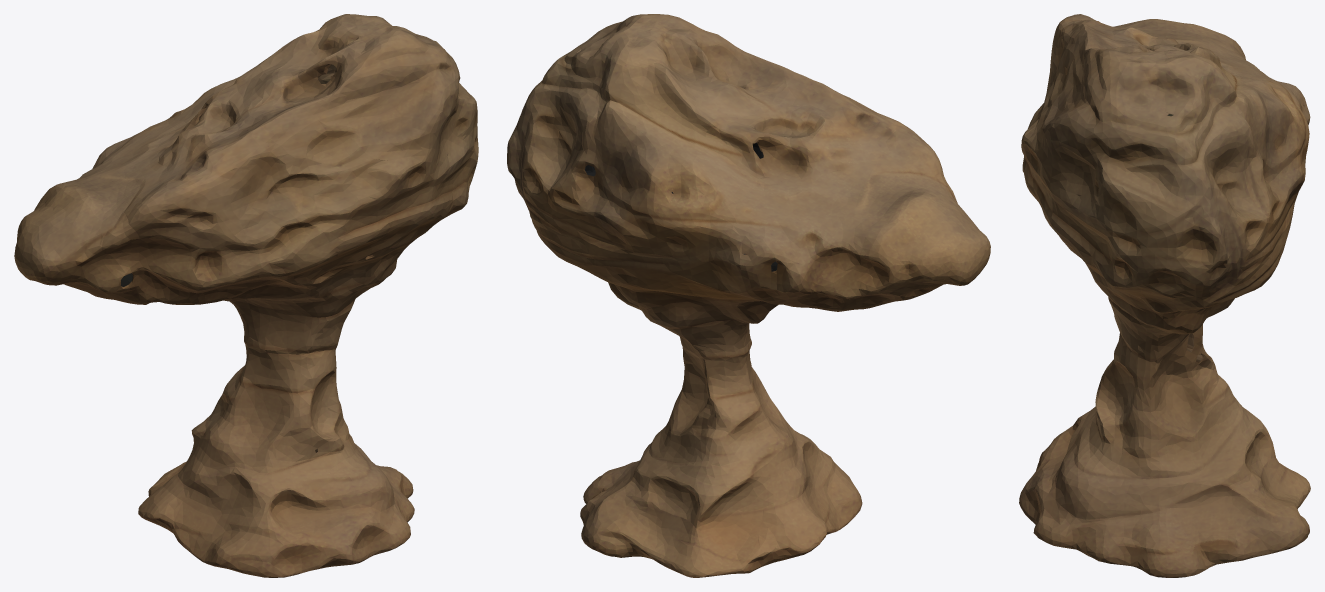
3 views of the same model, side by side, from view 1: azimuth 30°, elevation 25°; view 2: azimuth 150°, elevation 25°; view 3: azimuth 270°, elevation 25° (orthographic). The views are drawn at different scales.
Visible parts, largest first — view 1: world; view 2: world; view 3: world.
Boxes of the visible parts, bbox=[...] form: world: bbox=[14, 14, 478, 577]; world: bbox=[507, 14, 990, 577]; world: bbox=[1019, 14, 1310, 577].
Size of the model in its own units: 0.9955 by 1 by 0.5282.
Materials: 1 (1 with a texture image).
